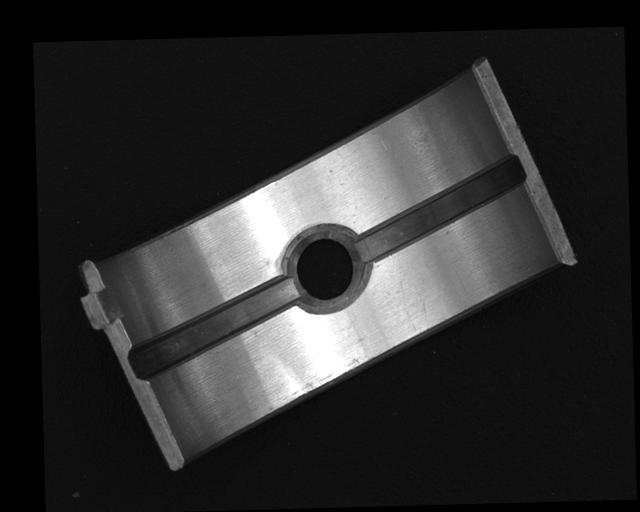gap: (356, 154, 527, 265), (130, 276, 299, 380)
hole: (288, 222, 363, 315)
